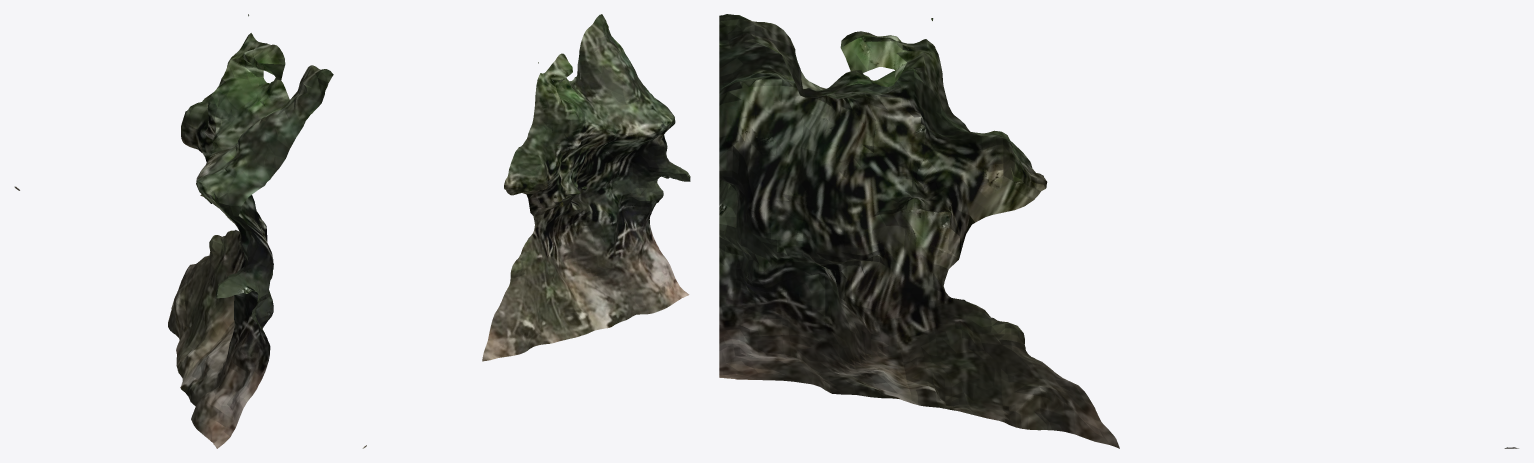
3 views of the same model, side by side, from view 1: azimuth 30°, elevation 25°; view 2: azimuth 150°, elevation 25°; view 3: azimuth 270°, elevation 25° (orthographic). The views are drawn at different scales.
Bounding box in the file's own units: 0.3555 × 1 × 1.67.
1 material, 1 textured.
